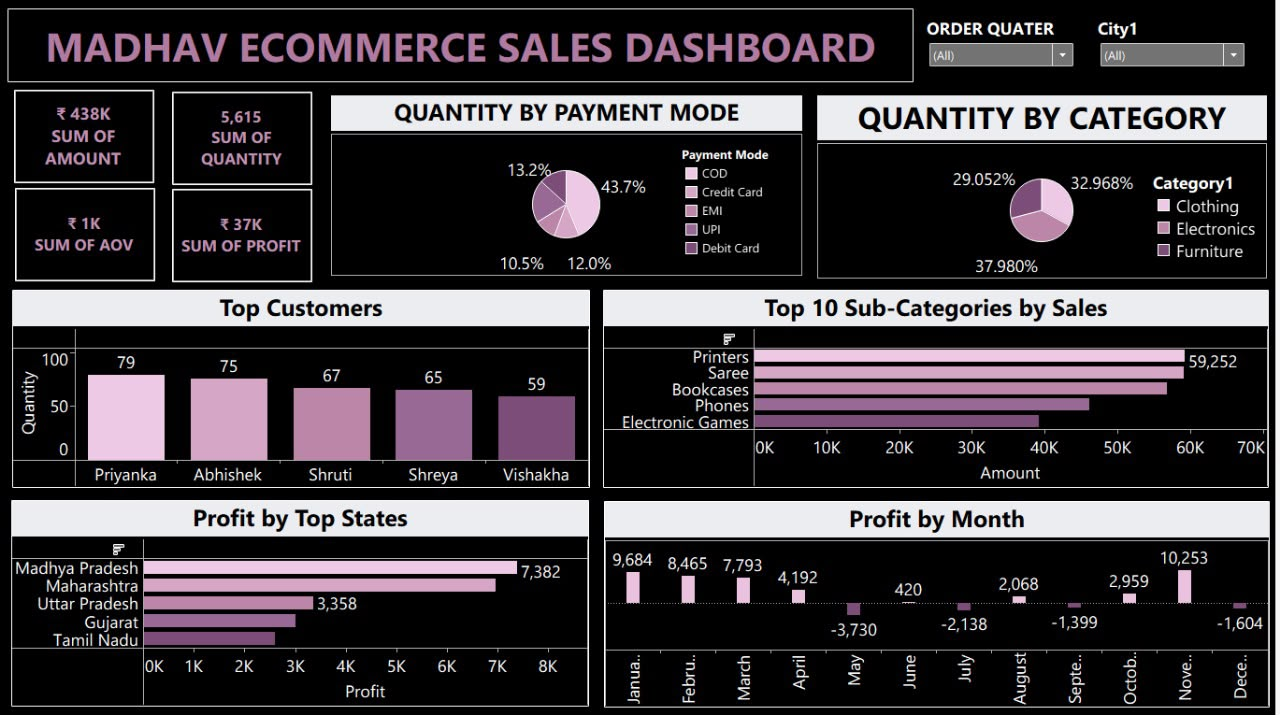

The page's visual inventory and layout, read from the dashboard file:
{"tool":"tableau","page":{"name":"Dashboard 1","canvas":[1365,768],"ordinal":0},"visuals":[{"type":"text","box":[4,5,979,89]},{"type":"filter","title":"Profit by Month","param":"[federated.17qzw8e1osr0h719ydo260k77m9m].[none:Calculation_445011987993677838:nk","box":[992,19,160,56]},{"type":"filter","title":"Profit by Month","param":"[federated.17qzw8e1osr0h719ydo260k77m9m].[none:City:nk]","box":[1175,19,160,56]},{"type":"worksheet","title":"KPI-AMOUNT","mark":"Text","box":[16,97,150,100]},{"type":"worksheet","title":"KPI-QUANTITY","mark":"Text","box":[185,99,150,100]},{"type":"worksheet","title":"Donut - PaymentMode.","mark":"Pie","box":[352,100,510,199]},{"type":"worksheet","title":"Sales by Category","mark":"Pie","box":[875,103,481,196]},{"type":"legend","title":"Donut - PaymentMode.","param":"[federated.17qzw8e1osr0h719ydo260k77m9m].[none:PaymentMode:nk]","box":[730,157,131,138]},{"type":"worksheet","title":"KPI-AOV","mark":"Text","box":[17,202,150,100]},{"type":"worksheet","title":"KPI-PROFIT","mark":"Text","box":[185,203,150,100]},{"type":"worksheet","title":"Top Customers","mark":"Automatic","rows":["Quantity"],"cols":["CustomerName"],"box":[14,311,618,212]},{"type":"worksheet","title":"Top 10 Sub-Categories by Sales","mark":"Bar","rows":["Sub-Category"],"cols":["Amount"],"box":[646,311,712,212]},{"type":"worksheet","title":"Profit by Top States","mark":"Automatic","rows":["State"],"cols":["Profit"],"box":[13,536,618,221]},{"type":"worksheet","title":"Profit by Month","mark":"Bar","rows":["Profit"],"cols":["Calculation_445011987960721409"],"box":[647,537,712,221]}]}

Visuals, with their boxes in screenshot pixels (x1, y1, x2, y2), scaled from the page's 1365x768 canvas onto the 1280x715 screenshot:
text: bbox=(4, 5, 922, 88)
"Profit by Month" filter: bbox=(930, 18, 1080, 70)
"Profit by Month" filter: bbox=(1102, 18, 1252, 70)
"KPI-AMOUNT" worksheet (Text marks): bbox=(15, 90, 156, 183)
"KPI-QUANTITY" worksheet (Text marks): bbox=(173, 92, 314, 185)
"Donut - PaymentMode." worksheet (Pie marks): bbox=(330, 93, 808, 278)
"Sales by Category" worksheet (Pie marks): bbox=(821, 96, 1272, 278)
"Donut - PaymentMode." legend: bbox=(685, 146, 807, 275)
"KPI-AOV" worksheet (Text marks): bbox=(16, 188, 157, 281)
"KPI-PROFIT" worksheet (Text marks): bbox=(173, 189, 314, 282)
"Top Customers" worksheet: bbox=(13, 290, 593, 487)
"Top 10 Sub-Categories by Sales" worksheet (Bar marks): bbox=(606, 290, 1273, 487)
"Profit by Top States" worksheet: bbox=(12, 499, 592, 705)
"Profit by Month" worksheet (Bar marks): bbox=(607, 500, 1274, 706)
